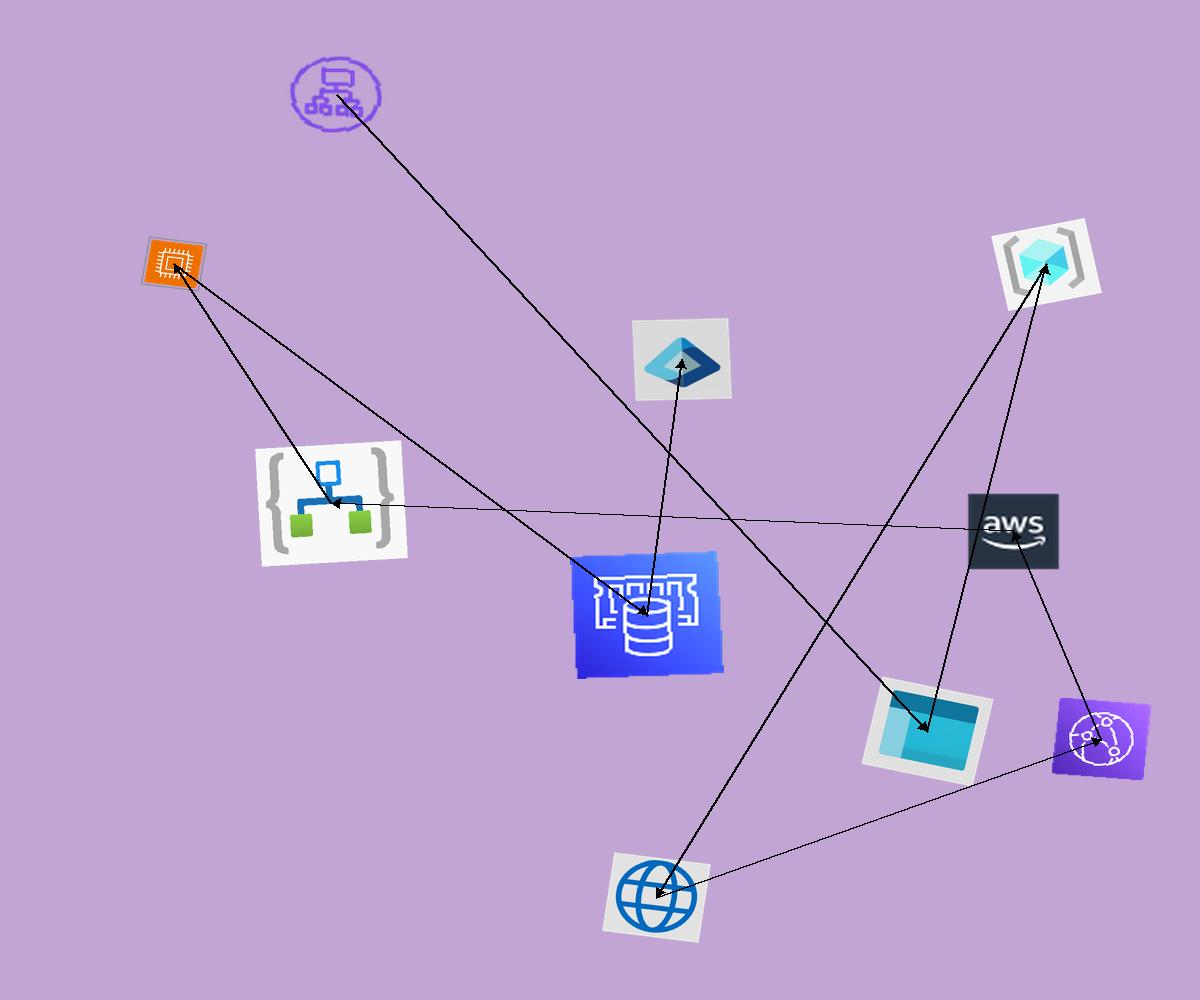AWS-Category_Compute: (140, 236, 208, 292)
AWS-Cloud-logo: (966, 492, 1061, 571)
AWS-CloudFront: (1051, 697, 1152, 781)
AWS-ElastiCache: (570, 551, 724, 679)
AWS-Res_Elastic-Load-Balancing_Application-Load-Balancer: (280, 48, 392, 141)
Azure_http: (602, 852, 711, 943)
Azure_integration-204-Logic-Apps: (255, 440, 408, 567)
Azure_management-portal: (861, 676, 994, 787)
Azure_microsoft_entra: (632, 318, 732, 401)
Azure_resource_group: (991, 218, 1102, 311)
